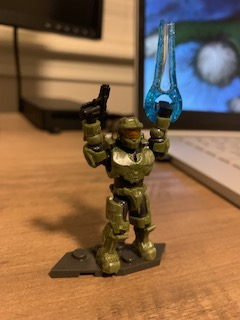chief: (79, 101, 172, 275)
pistol: (80, 83, 112, 122)
spartan: (77, 99, 170, 273)
up: (75, 101, 174, 185)
